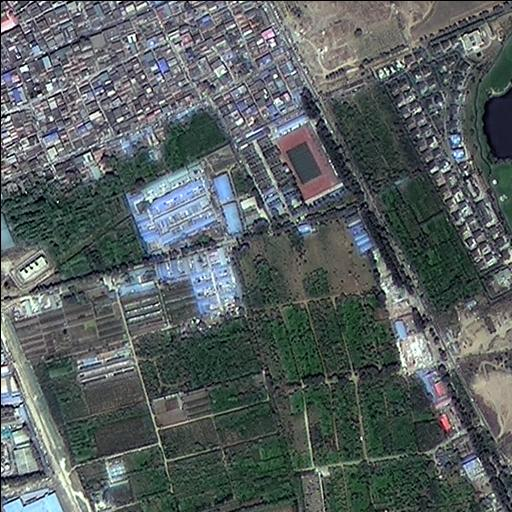school: (230, 109, 365, 225)
